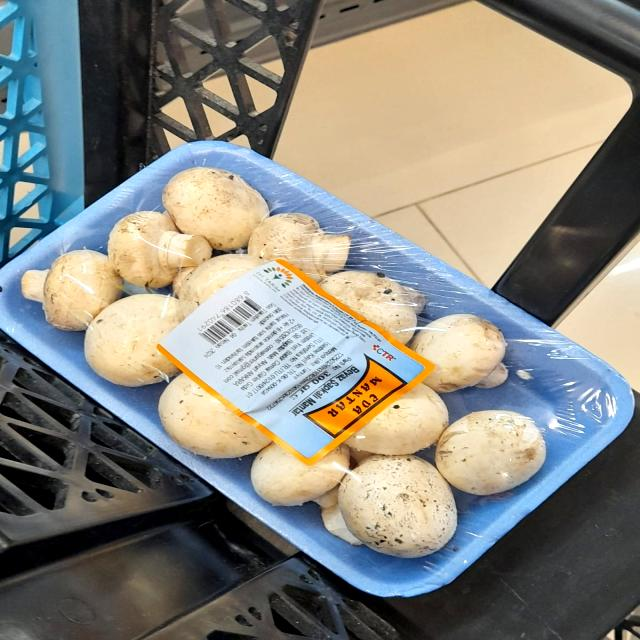mushroom: (319, 447, 468, 568), (433, 400, 559, 498), (413, 302, 527, 400), (165, 163, 278, 259), (14, 246, 122, 341), (112, 211, 224, 290)
